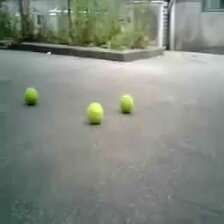tennis: (87, 103, 103, 123), (23, 87, 38, 103), (120, 95, 135, 111)
